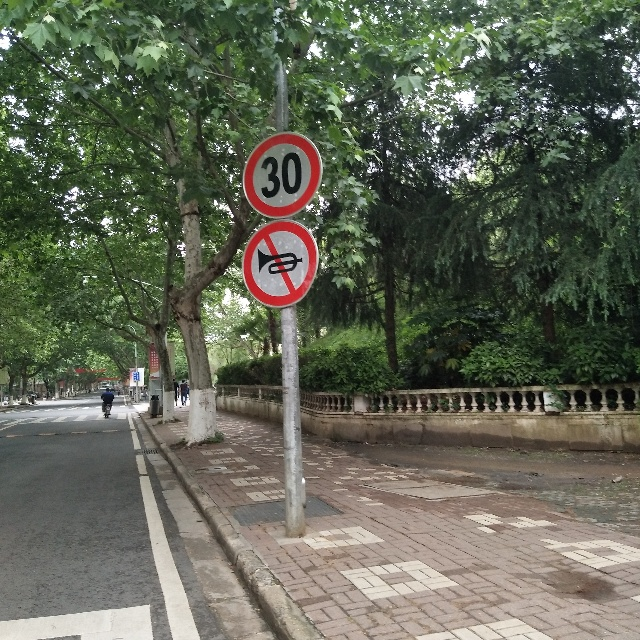nohonk: (239, 223, 317, 302)
